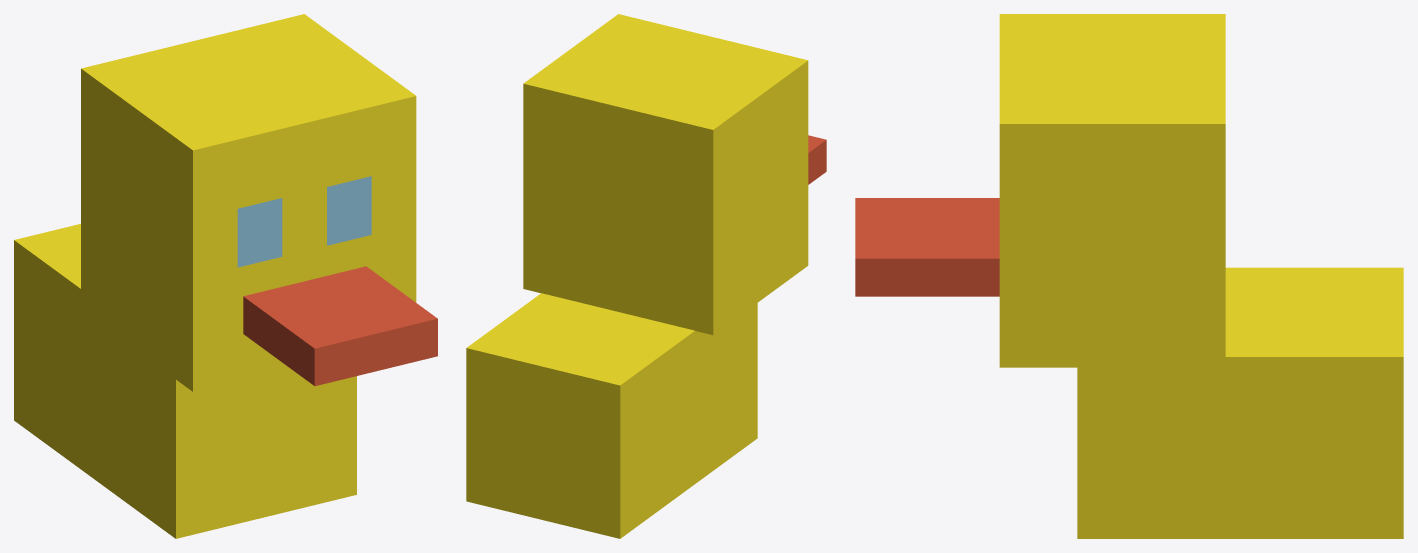
File: Duck.fbx
3 renders of one model, left to right at view 1: azimuth 30°, elevation 25°; view 2: azimuth 150°, elevation 25°; view 3: azimuth 270°, elevation 25°, orthographic. The views are drawn at different scales.
Parts seen in each view (by area): view 1: Cube; view 2: Cube; view 3: Cube.
Part boxes in pixels (box(x1,y1,x2,y2)): Cube: box(14, 14, 437, 538); Cube: box(466, 14, 826, 538); Cube: box(855, 14, 1403, 538).
Bounding box in the file's own units: 48.57 × 87.6 × 102.
